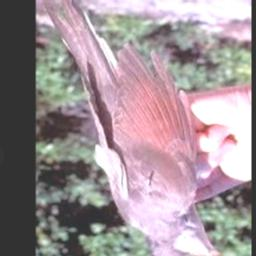Cuckoo: (43, 0, 245, 256)
